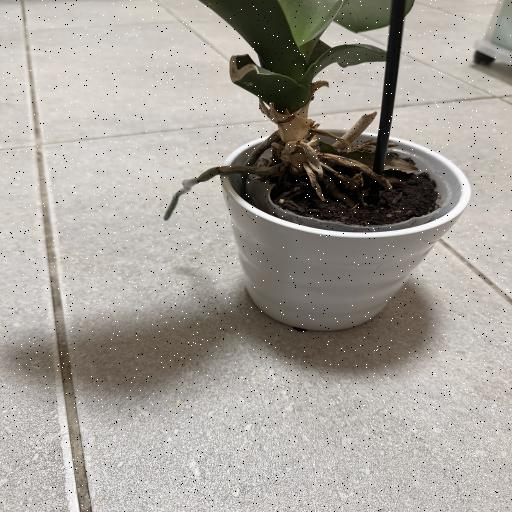Plant Pot: (218, 127, 476, 333)
